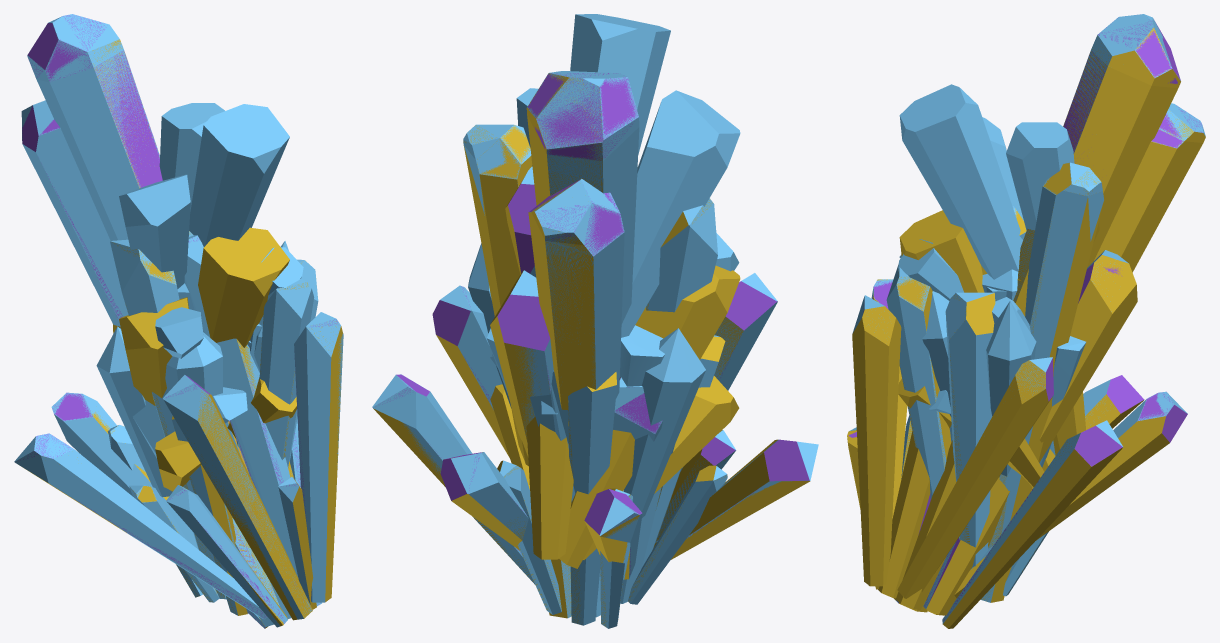
Rendered from Crystals.fbx.
3 renders of one model, left to right at view 1: azimuth 30°, elevation 25°; view 2: azimuth 150°, elevation 25°; view 3: azimuth 270°, elevation 25°, orthographic. The views are drawn at different scales.
Parts seen in each view (by area): view 1: Crystal_1_Blue, Crystal_3_Blue, Crystal_3_Gold, Crystal_2_Blue, Crystal_1_Gold, Crystal_1_Purple, Crystal_4_Blue, Crystal_2_Gold, Crystal_6_Blue; view 2: Crystal_1_Blue, Crystal_1_Gold, Crystal_2_Blue, Crystal_3_Blue, Crystal_1_Purple, Crystal_3_Gold, Crystal_4_Blue, Crystal_2_Gold, Crystal_5_Blue; view 3: Crystal_1_Gold, Crystal_2_Blue, Crystal_3_Blue, Crystal_1_Blue, Crystal_1_Purple, Crystal_2_Gold, Crystal_3_Gold, Crystal_4_Blue, Crystal_5_Blue.
Part boxes in pixels (box(x1,y1,x2,y2)): Crystal_1_Blue: box(14, 14, 343, 628); Crystal_3_Blue: box(119, 103, 303, 358); Crystal_3_Gold: box(119, 227, 296, 491); Crystal_2_Blue: box(107, 231, 318, 615); Crystal_1_Gold: box(22, 39, 343, 628); Crystal_1_Purple: box(18, 14, 337, 627); Crystal_4_Blue: box(96, 241, 288, 497); Crystal_2_Gold: box(109, 231, 308, 615); Crystal_6_Blue: box(212, 341, 251, 423); Crystal_1_Blue: box(372, 71, 818, 584); Crystal_1_Gold: box(373, 73, 810, 583); Crystal_2_Blue: box(463, 124, 727, 628); Crystal_3_Blue: box(516, 14, 740, 414); Crystal_1_Purple: box(382, 73, 809, 574); Crystal_3_Gold: box(490, 265, 740, 568); Crystal_4_Blue: box(468, 243, 705, 517); Crystal_2_Gold: box(463, 125, 726, 626); Crystal_5_Blue: box(486, 325, 665, 393); Crystal_1_Gold: box(847, 28, 1205, 628); Crystal_2_Blue: box(886, 162, 1103, 602); Crystal_3_Blue: box(898, 84, 1074, 332); Crystal_1_Blue: box(849, 14, 1205, 623); Crystal_1_Purple: box(848, 18, 1202, 620); Crystal_2_Gold: box(897, 163, 1103, 602); Crystal_3_Gold: box(898, 210, 1085, 489); Crystal_4_Blue: box(922, 269, 1055, 476); Crystal_5_Blue: box(949, 287, 1086, 467).
Size of the model in its own units: 115 by 190 by 112.
